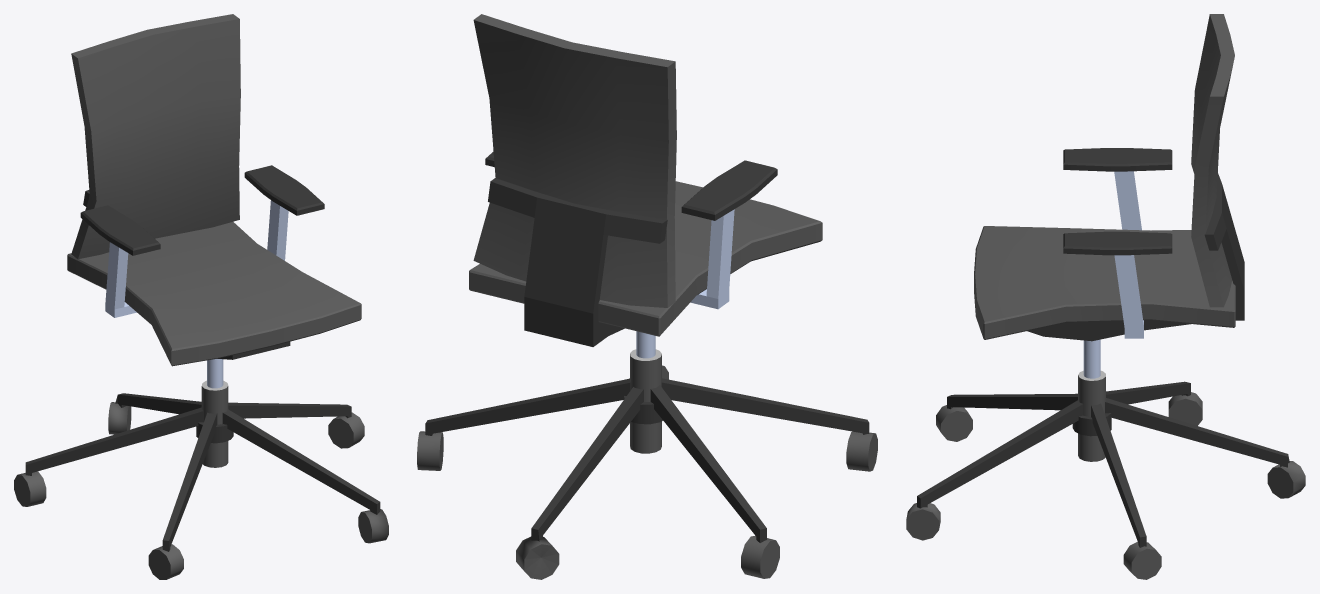
File: Bureau stoel.fbx
3 renders of one model, left to right at view 1: azimuth 30°, elevation 25°; view 2: azimuth 150°, elevation 25°; view 3: azimuth 270°, elevation 25°, orthographic. The views are drawn at different scales.
Parts seen in each view (by area): view 1: Bureau Stoel; view 2: Bureau Stoel; view 3: Bureau Stoel.
Boxes of the visible parts, left/top/right/bottom form: Bureau Stoel: left=14, top=14, right=388, bottom=579; Bureau Stoel: left=417, top=14, right=877, bottom=579; Bureau Stoel: left=906, top=14, right=1305, bottom=579.
Bounding box in the file's own units: 89.47 × 114 × 93.23.
